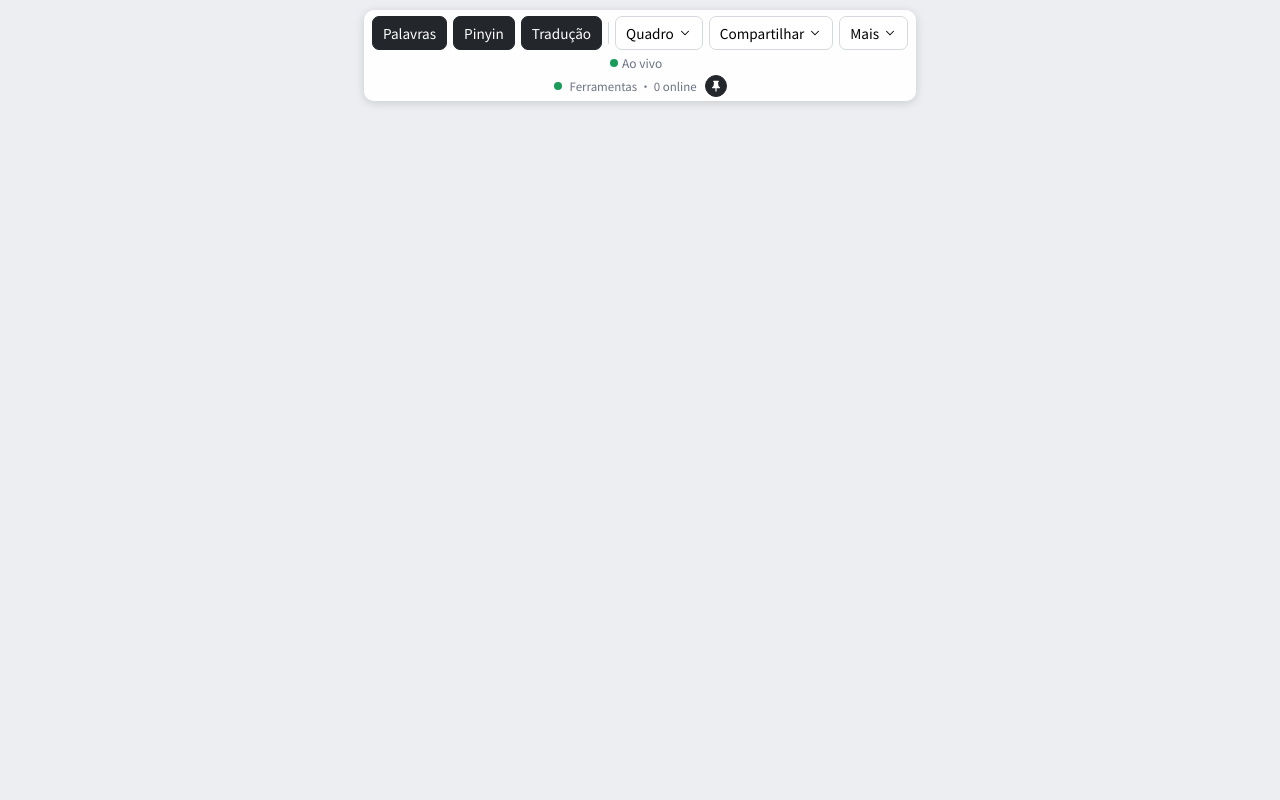
barra do topo enxuta, com menus › o menu fecha com Esc e ao tocar fora
The image size is (1280, 800).
Later steps or results of the test are not shown.
Click the button "Mais" at [874, 33], box top-left (839, 16), bottom-right (908, 50)
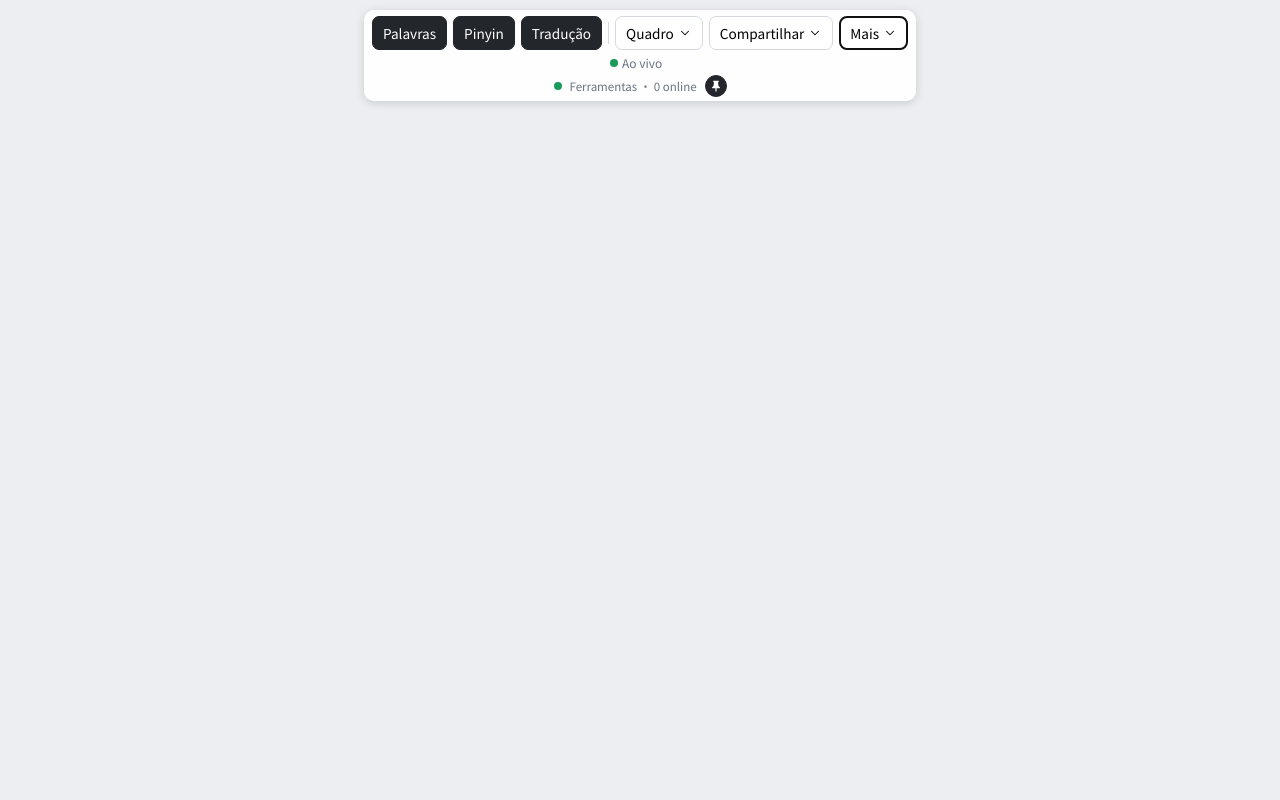
Click the button "Mais" at [874, 33], box top-left (839, 16), bottom-right (908, 50)
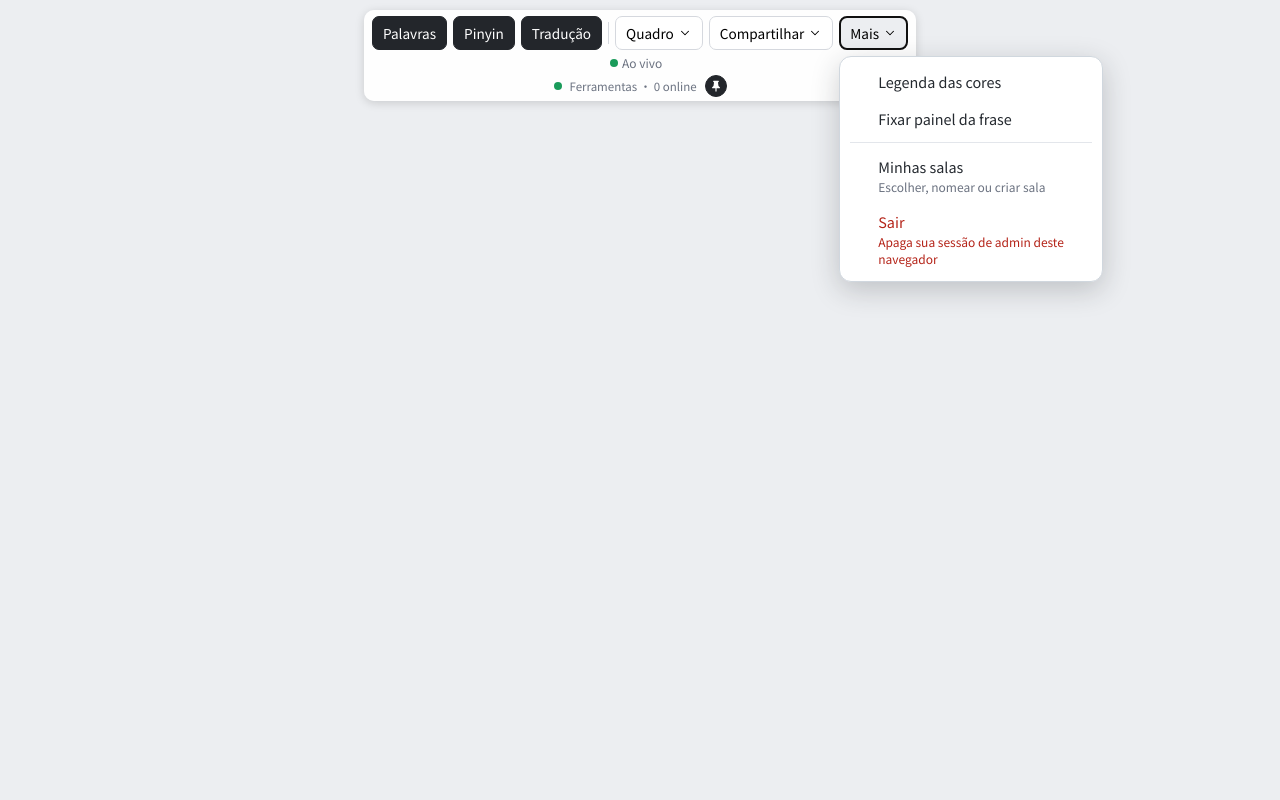
Press the mouse on the element that starts with "Palavras" at [640, 400], box top-left (0, 0), bottom-right (1279, 799)
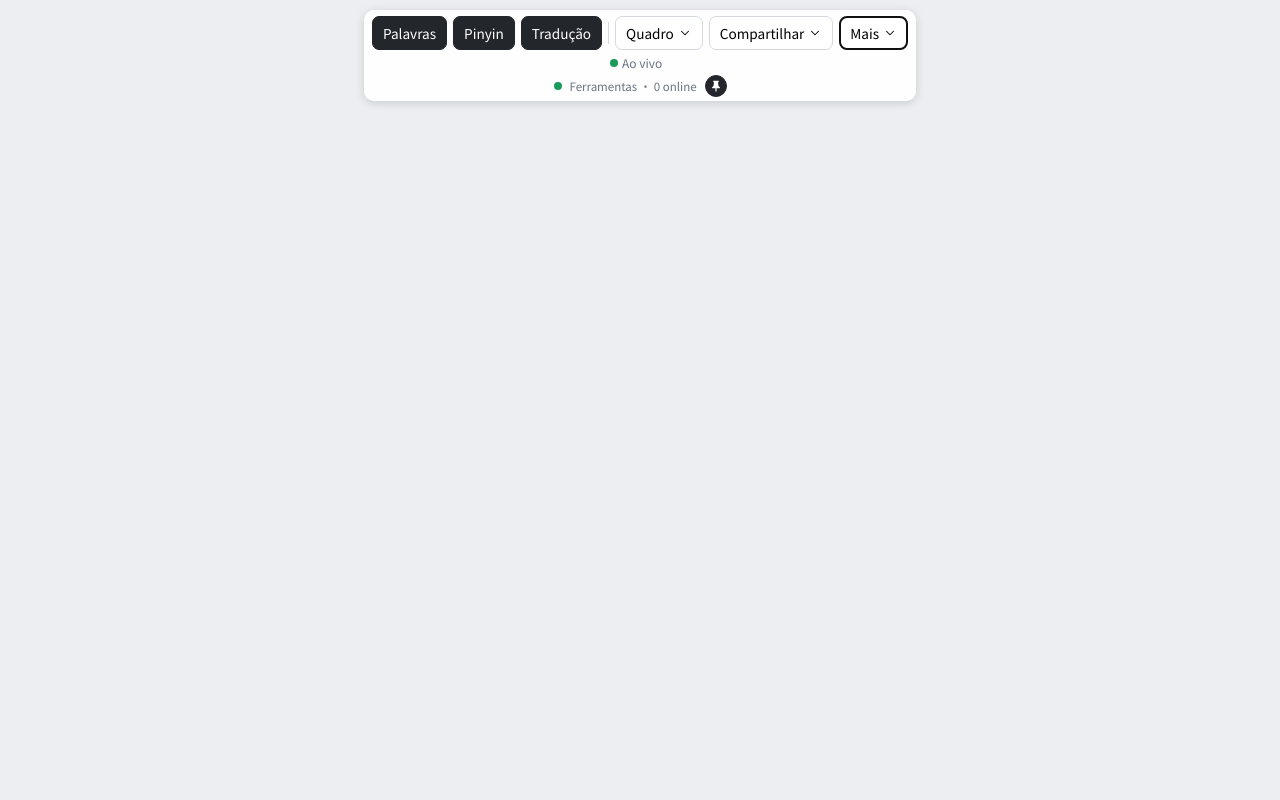
Result: the menu is gone
